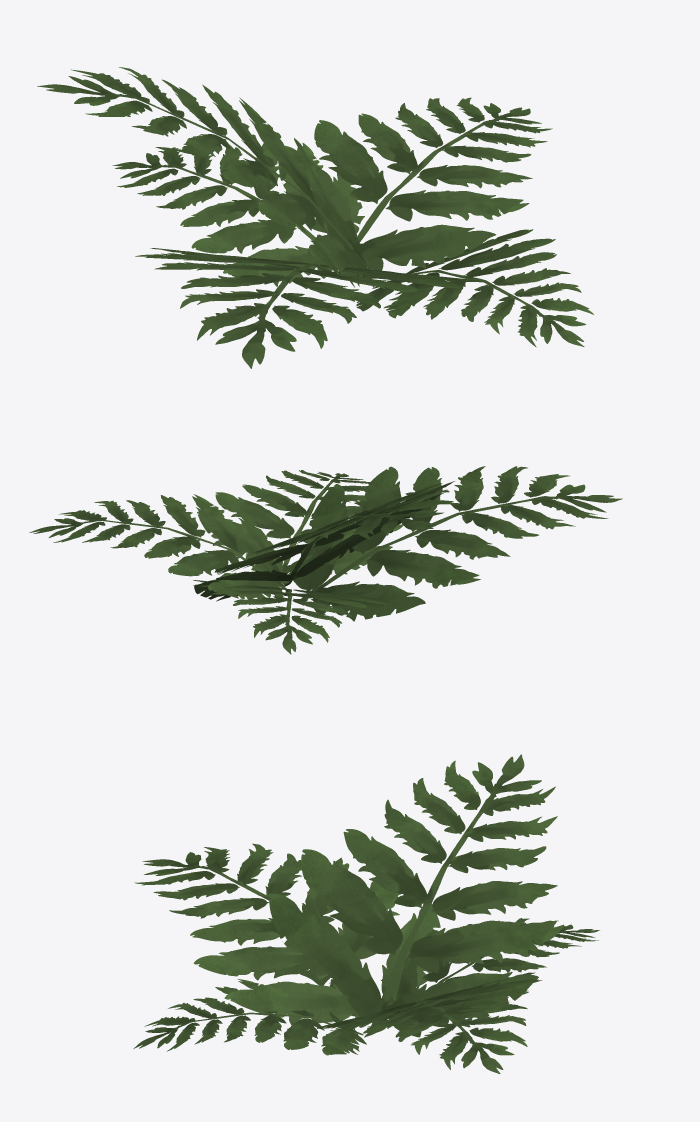
File: fernfoliage.fbx
The picture shows the model from 3 angles, top to bottom: view 1: azimuth 30°, elevation 25°; view 2: azimuth 150°, elevation 25°; view 3: azimuth 270°, elevation 25°; orthographic projection. The views are drawn at different scales.
Parts seen in each view (by area): view 1: leaf.007; view 2: leaf.007; view 3: leaf.007.
Part boxes in pixels (box(x1,y1,x2,y2)): leaf.007: box(37, 67, 593, 368); leaf.007: box(29, 466, 622, 654); leaf.007: box(133, 754, 599, 1073).
Bounding box in the file's own units: 311 × 99.14 × 306.
